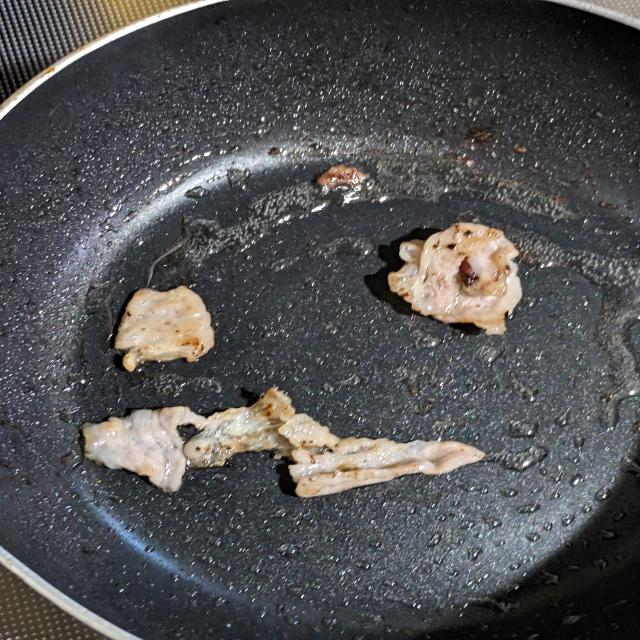OK cooked pork,: (76, 380, 502, 502), (366, 219, 535, 342), (100, 276, 224, 379)
